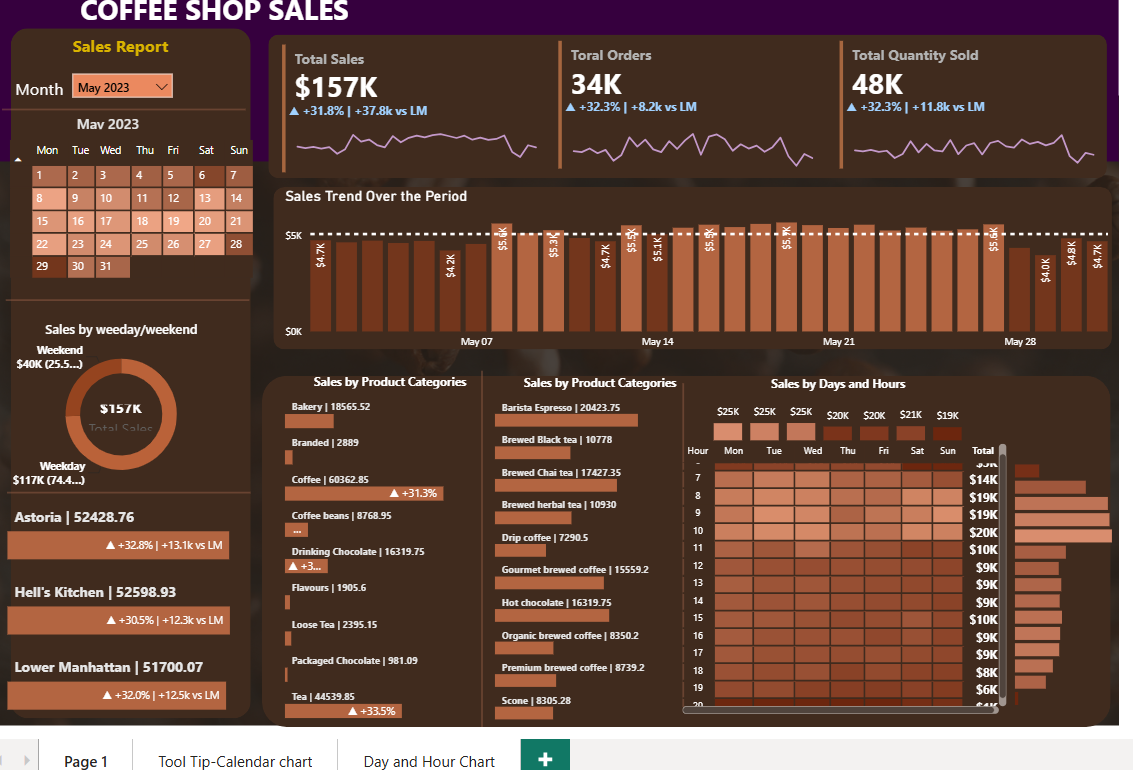

The dashboard page shown, as its layout file describes it:
{"tool":"powerbi","page":{"name":"Page 1","canvas":[1400,1100],"ordinal":0},"visuals":[{"type":"shape","box":[360,507.1,970,401.4],"z":0},{"type":"shape","box":[58.4,61.2,1280.4,200.8],"z":1000},{"type":"shape","box":[72.9,110,274.3,788.6],"z":2000},{"type":"shape","box":[367.1,117.1,958.6,164.3],"z":3000},{"type":"textbox","box":[146.7,61.2,343.2,61.2],"z":4000},{"type":"cardVisual","fields":{"Data":["Date Table.Total Quantity Sold"]},"box":[1004.1,108.2,254.7,178.7],"z":5000,"group":"g3"},{"type":"cardVisual","fields":{"Data":["Date Table.Toral Orders"]},"box":[682.9,108.6,254.7,178.7],"z":5000,"group":"g2"},{"type":"cardVisual","fields":{"Data":["Transactions.Total Sales"]},"box":[367.1,112.9,254.7,178.7],"z":5000,"group":"g1"},{"type":"slicer","fields":{"Values":["Date Table.Month Year"]},"box":[138.6,157.1,124.3,41.4],"z":5000},{"type":"group","id":"g1","title":"Group 1","box":[367.1,112.9,321.4,178.6],"z":6000},{"type":"lineChart","fields":{"Category":["Date Table.Date Hierarchy.Date"],"Y":["Date Table.Total Quantity Sold"]},"box":[1022.8,189.5,302.7,84],"z":6000,"group":"g3"},{"type":"lineChart","fields":{"Category":["Date Table.Date Hierarchy.Date"],"Y":["Date Table.Toral Orders"]},"box":[701.6,189.9,302.7,84],"z":6000,"group":"g2"},{"type":"lineChart","fields":{"Y":["Transactions.Total Sales"],"Category":["Date Table.Date Hierarchy.Date"]},"box":[385.8,194.2,302.7,84],"z":6000,"group":"g1"},{"type":"group","id":"g2","title":"Group 1","box":[682.9,108.6,321.4,177.1],"z":7000},{"type":"group","id":"g3","title":"Group 1","box":[1004.1,108.2,321.9,178],"z":8000},{"type":"pivotTable","fields":{"Rows":["Date Table.Week Number"],"Columns":["Date Table.Day Name"],"Values":["Min(Date Table.Day Number)"]},"box":[67.1,232.9,292.9,194.3],"z":9000},{"type":"cardVisual","fields":{"Rows":["Date Table.Month Year"]},"box":[131.4,181.4,161.4,85.7],"z":10000},{"type":"shape","box":[67.1,398.6,278.6,44.3],"z":11000},{"type":"shape","box":[62.9,181.4,278.6,42.9],"z":12000},{"type":"donutChart","title":"Sales by weeday/weekend","fields":{"Y":["Transactions.Total Sales"],"Category":["Date Table.weeday/weekend"]},"box":[47.1,442.9,304.3,197.1],"z":13000},{"type":"cardVisual","fields":{"Data":["Transactions.Total Sales"]},"box":[131.4,522.9,134.3,64.3],"z":14000},{"type":"shape","box":[68.6,618.6,278.6,44.3],"z":15000},{"type":"clusteredBarChart","fields":{"Category":["Transactions.store_location"],"Y":["Date Table.placeholder","Transactions.Total Sales"]},"box":[64.3,640,300,258.6],"z":16000},{"type":"shape","box":[372.9,291.4,958.6,185.7],"z":17000},{"type":"columnChart","title":"Sales Trend Over the Period","fields":{"Category":["Transactions.transaction_date"],"Y":["Transactions.Total Sales"]},"box":[381.4,291.4,957.1,194.3],"z":18000},{"type":"clusteredBarChart","title":"Sales by Product Categories","fields":{"Y":["Date Table.placeholder","Transactions.Total Sales"],"Category":["Transactions.product_category"]},"box":[381.4,504.3,250,400],"z":19000},{"type":"shape","box":[581.4,501.4,60,407.1],"z":19001},{"type":"clusteredBarChart","title":"Sales by Product Categories","fields":{"Y":["Date Table.placeholder","Transactions.Total Sales"],"Category":["Transactions.product_type"]},"box":[621.4,505.7,250,400],"z":19002},{"type":"shape","box":[811.4,515.7,60,370],"z":19003},{"type":"pivotTable","fields":{"Rows":["Transactions.Hour"],"Columns":["Date Table.Day Name"],"Values":["Transactions.Total Sales"]},"box":[835.7,580,380,318.6],"z":19004},{"type":"barChart","fields":{"Category":["Transactions.Hour"],"Y":["Transactions.Total Sales"]},"box":[1215.7,595.7,122.9,292.9],"z":19005},{"type":"columnChart","title":"Sales by Days and Hours","fields":{"Category":["Date Table.Day Name"],"Y":["Transactions.Total Sales"]},"box":[871.4,507.1,294.3,80],"z":19006},{"type":"textbox","box":[72.9,161.4,121.4,50],"z":19007},{"type":"textbox","box":[138.6,112.9,171.4,61.4],"z":19008}]}

Visuals, with their boxes on the page's 1400x1100 design canvas (x1, y1, x2, y2). These are canvas units, not pixel positions in the 1133x770 screenshot, which may show the page scaled, cropped or inside an application window:
shape: rect(360, 507, 1330, 908)
shape: rect(58, 61, 1339, 262)
shape: rect(73, 110, 347, 899)
shape: rect(367, 117, 1326, 281)
textbox: rect(147, 61, 490, 122)
cardVisual - Date Table.Total Quantity Sold: rect(1004, 108, 1259, 287)
cardVisual - Date Table.Toral Orders: rect(683, 109, 938, 287)
cardVisual - Transactions.Total Sales: rect(367, 113, 622, 292)
slicer - Date Table.Month Year: rect(139, 157, 263, 198)
"Group 1" group: rect(367, 113, 688, 292)
lineChart - Date Table.Date Hierarchy.Date x Date Table.Total Quantity Sold: rect(1023, 190, 1326, 274)
lineChart - Date Table.Date Hierarchy.Date x Date Table.Toral Orders: rect(702, 190, 1004, 274)
lineChart - Transactions.Total Sales x Date Table.Date Hierarchy.Date: rect(386, 194, 688, 278)
"Group 1" group: rect(683, 109, 1004, 286)
"Group 1" group: rect(1004, 108, 1326, 286)
pivotTable - Date Table.Week Number x Date Table.Day Name: rect(67, 233, 360, 427)
cardVisual - Date Table.Month Year: rect(131, 181, 293, 267)
shape: rect(67, 399, 346, 443)
shape: rect(63, 181, 342, 224)
"Sales by weeday/weekend" donutChart: rect(47, 443, 351, 640)
cardVisual - Transactions.Total Sales: rect(131, 523, 266, 587)
shape: rect(69, 619, 347, 663)
clusteredBarChart - Transactions.store_location x Date Table.placeholder: rect(64, 640, 364, 899)
shape: rect(373, 291, 1332, 477)
"Sales Trend Over the Period" columnChart: rect(381, 291, 1338, 486)
"Sales by Product Categories" clusteredBarChart: rect(381, 504, 631, 904)
shape: rect(581, 501, 641, 908)
"Sales by Product Categories" clusteredBarChart: rect(621, 506, 871, 906)
shape: rect(811, 516, 871, 886)
pivotTable - Transactions.Hour x Date Table.Day Name: rect(836, 580, 1216, 899)
barChart - Transactions.Hour x Transactions.Total Sales: rect(1216, 596, 1339, 889)
"Sales by Days and Hours" columnChart: rect(871, 507, 1166, 587)
textbox: rect(73, 161, 194, 211)
textbox: rect(139, 113, 310, 174)
